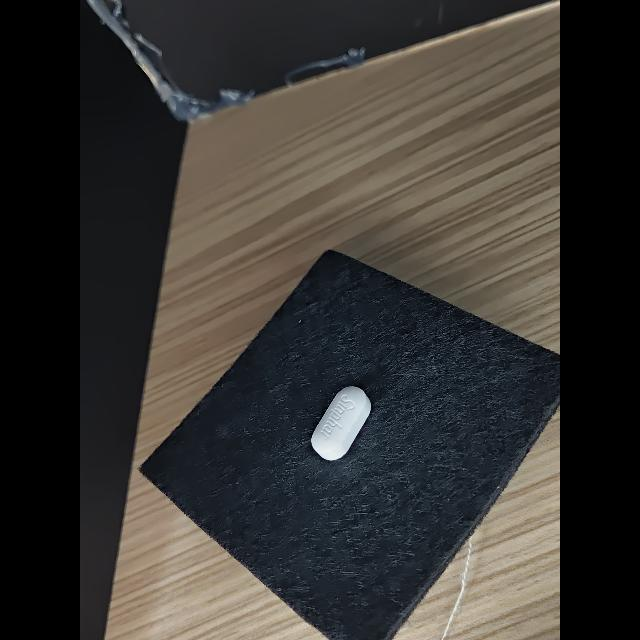Intact Pill: (311, 386, 371, 460)
